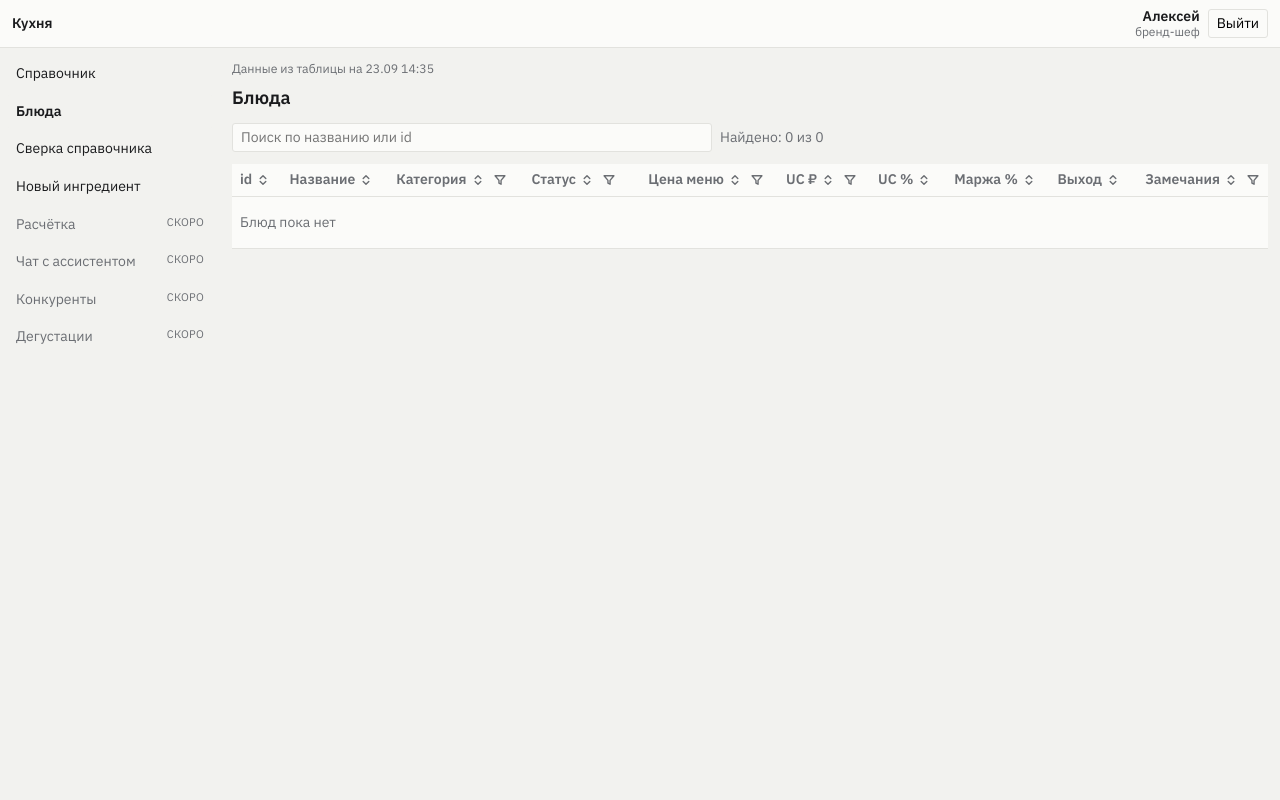
Test case: успешный повтор выхода снимает предупреждение
Expected: the text "Алексей" is shown, [1143,8,1200,25]
Click the button "Выйти": (1238, 24) [1208,9,1268,38]
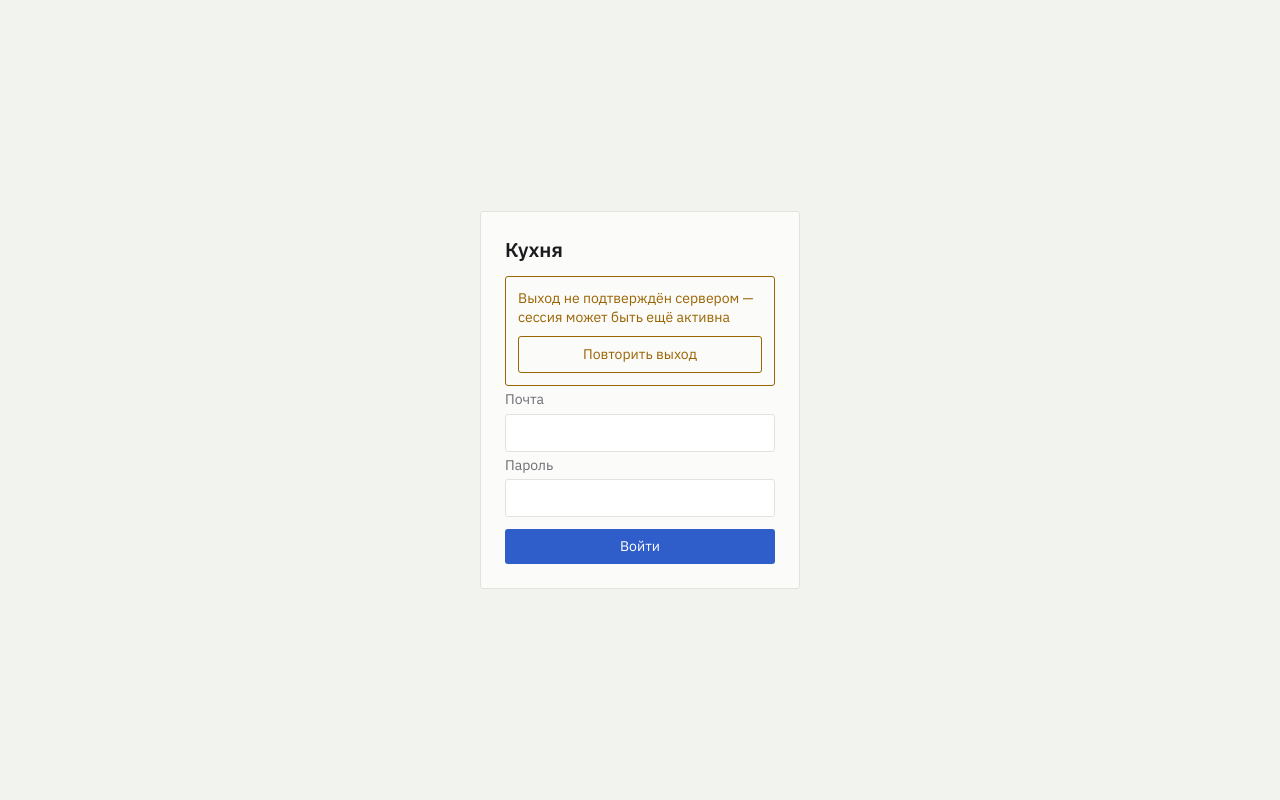
Click the button "Повторить выход": (640, 355) [518,336,762,373]
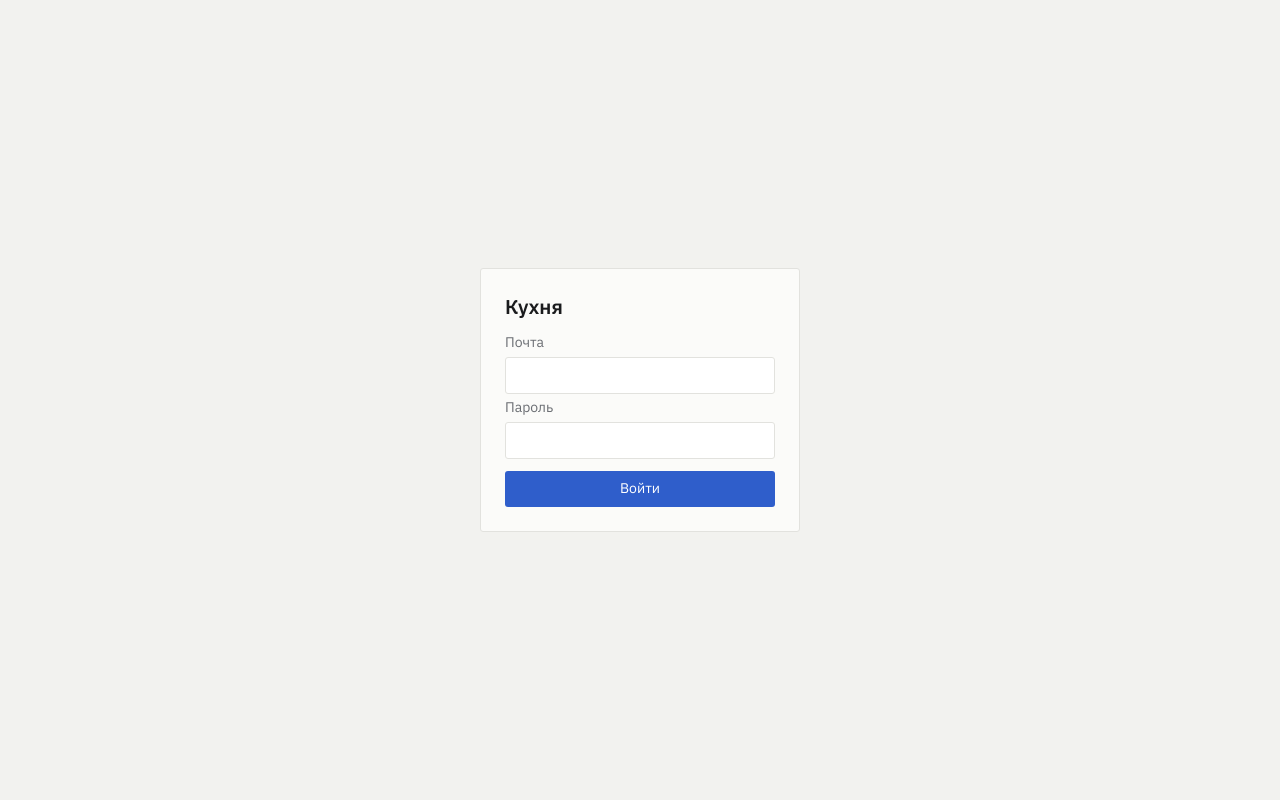
Result: the field labelled "Почта" is shown at [505,357,775,394]
Result: the text "Выход не подтверждён сервером" is gone
Result: the button "Повторить выход" is gone
